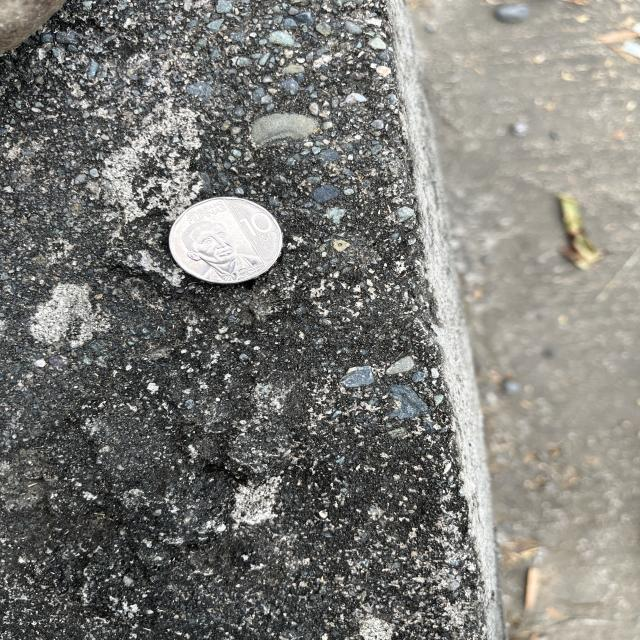10_New_Front: (237, 208, 276, 242)
